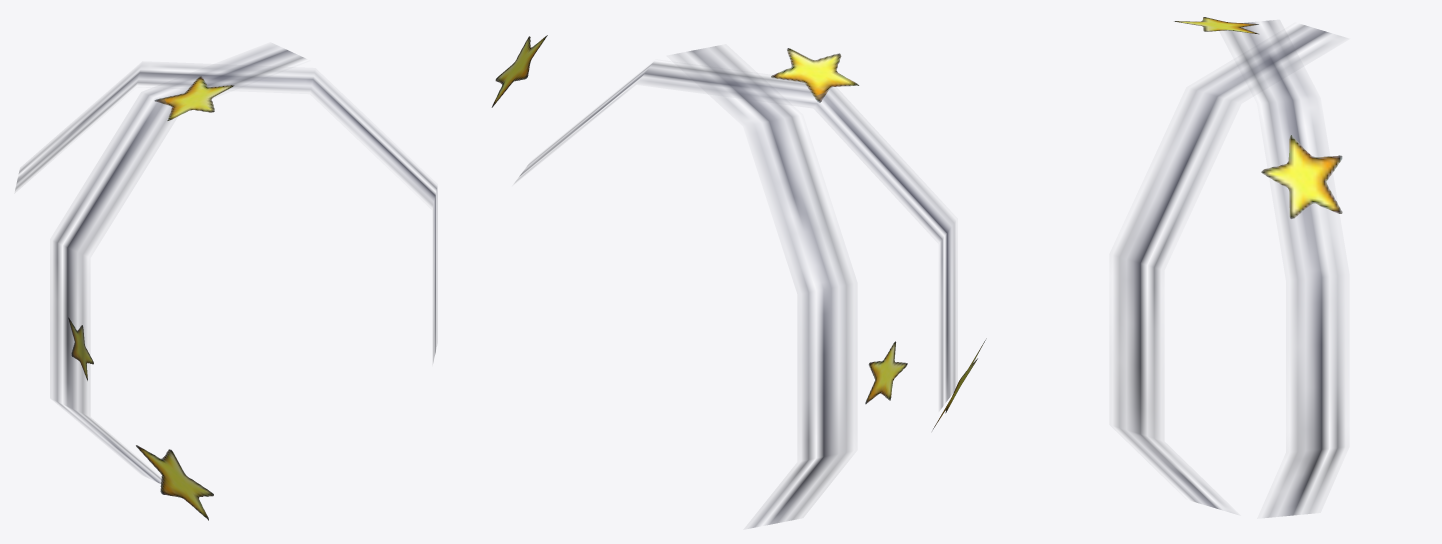
Rendered from stun.glb.
3 views of the same model, side by side, from view 1: azimuth 30°, elevation 25°; view 2: azimuth 150°, elevation 25°; view 3: azimuth 270°, elevation 25° (orthographic). The views are drawn at different scales.
Visible parts, largest first — view 1: joint_blur1, joint_blur2, TheStar5, TheStar, TheStar2; view 2: joint_blur2, joint_blur1, TheStar, TheStar2, TheStar3; view 3: joint_blur1, joint_blur2, TheStar3, TheStar.
Boxes of the visible parts, left/top/right/bottom form: joint_blur1: left=53, top=44, right=305, bottom=483; joint_blur2: left=15, top=64, right=437, bottom=361; TheStar5: left=136, top=445, right=213, bottom=520; TheStar: left=154, top=76, right=234, bottom=120; TheStar2: left=68, top=318, right=93, bottom=380; joint_blur2: left=673, top=46, right=852, bottom=528; joint_blur1: left=515, top=62, right=955, bottom=409; TheStar: left=771, top=48, right=859, bottom=102; TheStar2: left=865, top=341, right=907, bottom=404; TheStar3: left=491, top=35, right=547, bottom=107; joint_blur1: left=1225, top=20, right=1343, bottom=517; joint_blur2: left=1115, top=24, right=1342, bottom=512; TheStar3: left=1261, top=135, right=1342, bottom=218; TheStar: left=1174, top=17, right=1259, bottom=34.
Bounding box in the file's own units: 2.77 × 2.69 × 2.16.
Materials: 2 (2 with a texture image).
